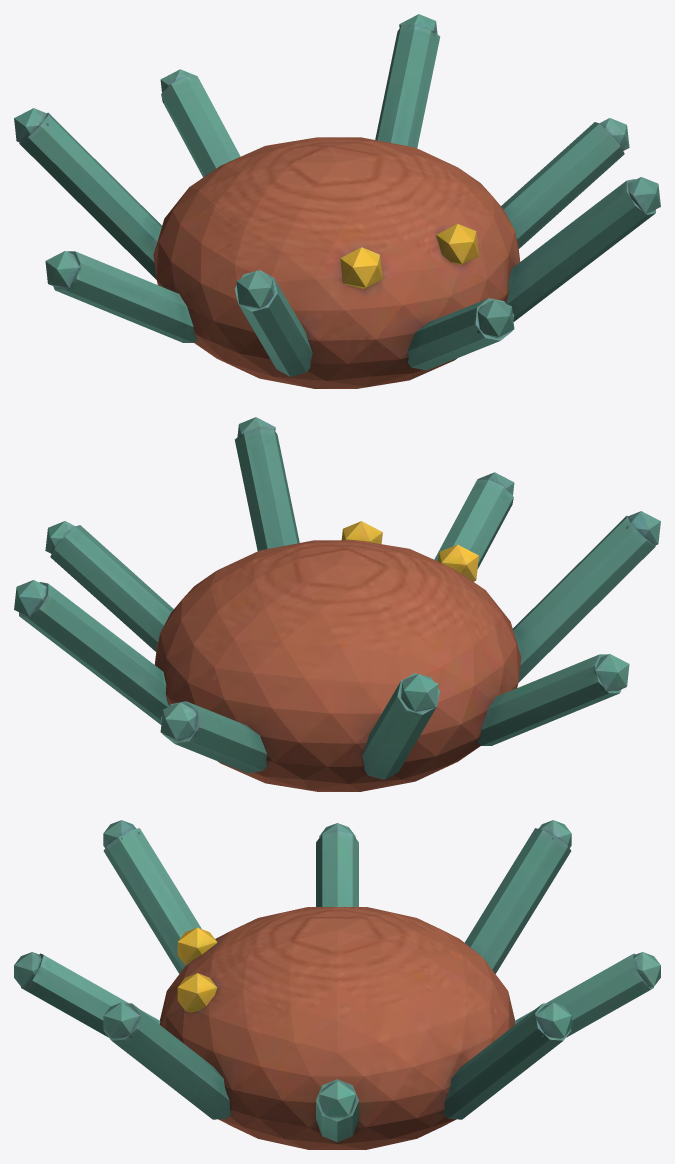
File: night-kraken.glb
3 renders of one model, top to bottom at view 1: azimuth 30°, elevation 25°; view 2: azimuth 150°, elevation 25°; view 3: azimuth 270°, elevation 25°, orthographic. The views are drawn at different scales.
Visible parts, largest first — view 1: night-kraken; view 2: night-kraken; view 3: night-kraken.
Boxes of the visible parts, box(x1,y1,x2,y2) form: night-kraken: box(14, 14, 660, 388); night-kraken: box(14, 417, 660, 791); night-kraken: box(14, 820, 660, 1149).
Bounding box in the file's own units: 3.61 × 1.32 × 3.6.
Materials: 1 (1 with a texture image).
